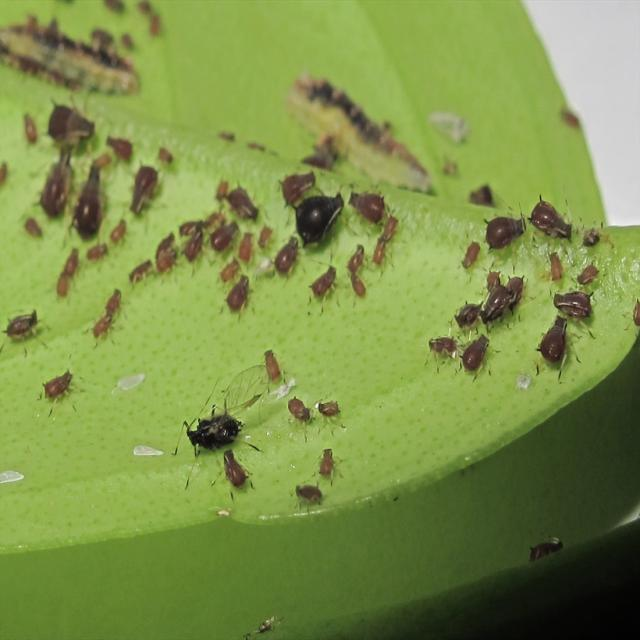Aphids: (158, 389, 273, 450)
